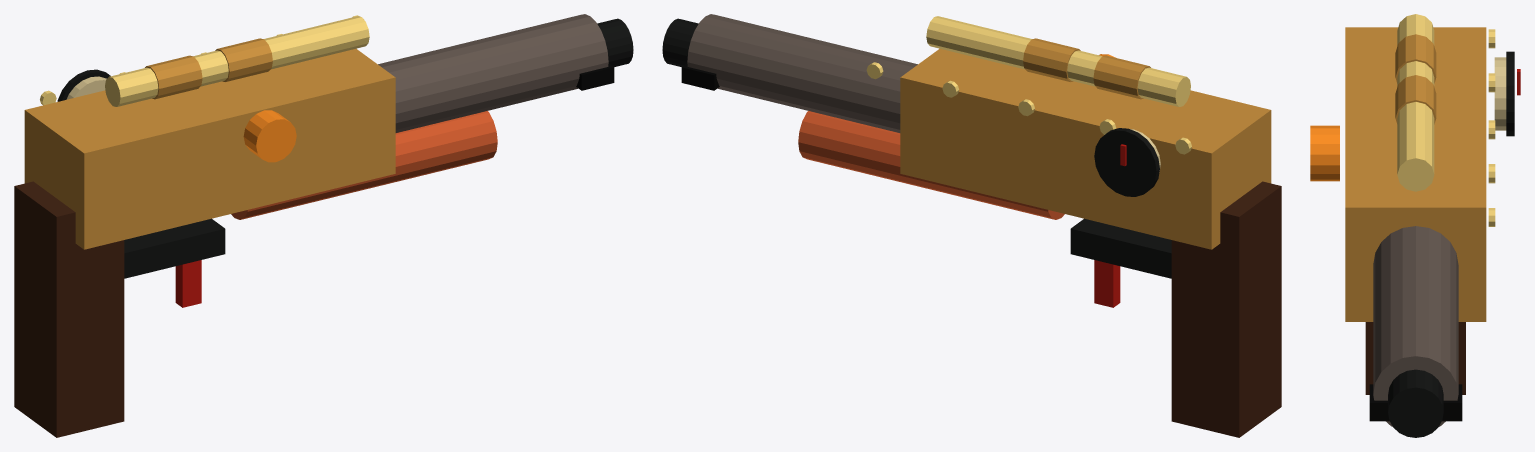
The model's file is V0135WA_001_PressurePistol_FinalComponentPack.obj.
The picture shows the model from 3 angles, left to right: view 1: azimuth 30°, elevation 25°; view 2: azimuth 150°, elevation 25°; view 3: azimuth 270°, elevation 25°; orthographic projection. The views are drawn at different scales.
Visible parts, largest first — view 1: brass_frame_split_receiver, walnut_leather_wrapped_grip, barrel_heat_stained_main_tube, underbarrel_copper_pressure_chamber, top_recoil_coil_01, blackened_trigger_guard, amber_pressure_lamp_right, top_recoil_coil_02, top_recoil_coil_03, barrel_blackened_inner_bore, trigger_warning_red_tab, oil_soot_muzzle_wear_card; view 2: brass_frame_split_receiver, walnut_leather_wrapped_grip, barrel_heat_stained_main_tube, underbarrel_copper_pressure_chamber, top_recoil_coil_01, blackened_trigger_guard, black_gauge_rim_left, top_recoil_coil_02, top_recoil_coil_03, barrel_blackened_inner_bore, trigger_warning_red_tab, oil_soot_muzzle_wear_card; view 3: brass_frame_split_receiver, barrel_heat_stained_main_tube, top_recoil_coil_01, barrel_blackened_inner_bore, amber_pressure_lamp_right, top_recoil_coil_02, top_recoil_coil_03, walnut_leather_wrapped_grip, oil_soot_muzzle_wear_card, cream_pressure_gauge_disc_left, black_gauge_rim_left.
Boxes of the visible parts, bbox=[...] form: brass_frame_split_receiver: bbox=[24, 48, 395, 249]; walnut_leather_wrapped_grip: bbox=[14, 181, 124, 437]; barrel_heat_stained_main_tube: bbox=[378, 14, 608, 132]; underbarrel_copper_pressure_chamber: bbox=[231, 111, 497, 219]; top_recoil_coil_01: bbox=[105, 16, 369, 106]; blackened_trigger_guard: bbox=[124, 218, 225, 278]; amber_pressure_lamp_right: bbox=[243, 110, 296, 162]; top_recoil_coil_02: bbox=[145, 55, 202, 99]; top_recoil_coil_03: bbox=[215, 38, 272, 81]; barrel_blackened_inner_bore: bbox=[597, 18, 633, 67]; trigger_warning_red_tab: bbox=[175, 260, 201, 307]; oil_soot_muzzle_wear_card: bbox=[576, 63, 614, 90]; brass_frame_split_receiver: bbox=[900, 48, 1271, 249]; walnut_leather_wrapped_grip: bbox=[1171, 181, 1281, 437]; barrel_heat_stained_main_tube: bbox=[687, 14, 917, 132]; underbarrel_copper_pressure_chamber: bbox=[798, 111, 1064, 219]; top_recoil_coil_01: bbox=[926, 16, 1190, 106]; blackened_trigger_guard: bbox=[1070, 218, 1171, 278]; black_gauge_rim_left: bbox=[1094, 128, 1159, 196]; top_recoil_coil_02: bbox=[1093, 55, 1150, 99]; top_recoil_coil_03: bbox=[1023, 38, 1080, 81]; barrel_blackened_inner_bore: bbox=[662, 18, 698, 67]; trigger_warning_red_tab: bbox=[1094, 260, 1120, 307]; oil_soot_muzzle_wear_card: bbox=[681, 63, 719, 90]; brass_frame_split_receiver: bbox=[1345, 27, 1486, 321]; barrel_heat_stained_main_tube: bbox=[1373, 226, 1458, 426]; top_recoil_coil_01: bbox=[1397, 14, 1434, 191]; barrel_blackened_inner_bore: bbox=[1388, 369, 1443, 437]; amber_pressure_lamp_right: bbox=[1310, 125, 1339, 181]; top_recoil_coil_02: bbox=[1395, 34, 1436, 83]; top_recoil_coil_03: bbox=[1395, 75, 1436, 124]; walnut_leather_wrapped_grip: bbox=[1365, 322, 1465, 394]; oil_soot_muzzle_wear_card: bbox=[1369, 384, 1462, 421]; cream_pressure_gauge_disc_left: bbox=[1494, 57, 1506, 130]; black_gauge_rim_left: bbox=[1506, 51, 1514, 136].
Size of the model in its own units: 2.16 by 1.15 by 0.568.
